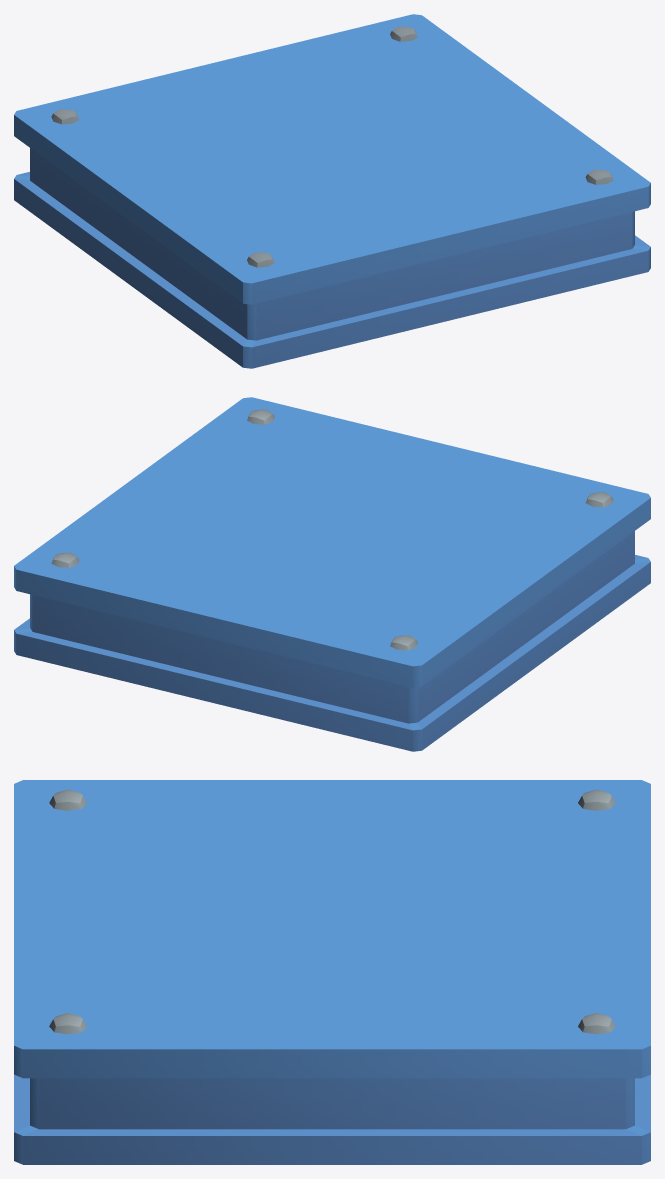
File: platform_high.gltf.glb
The picture shows the model from 3 angles, top to bottom: view 1: azimuth 30°, elevation 25°; view 2: azimuth 150°, elevation 25°; view 3: azimuth 270°, elevation 25°; orthographic projection. The views are drawn at different scales.
Visible parts, largest first — view 1: platform_high; view 2: platform_high; view 3: platform_high.
Part boxes in pixels (left/top/right/bottom): platform_high: left=14, top=14, right=650, bottom=368; platform_high: left=14, top=397, right=650, bottom=751; platform_high: left=14, top=780, right=650, bottom=1164.
Size of the model in its own units: 2 by 0.4372 by 2.
Materials: 1 (1 with a texture image).
